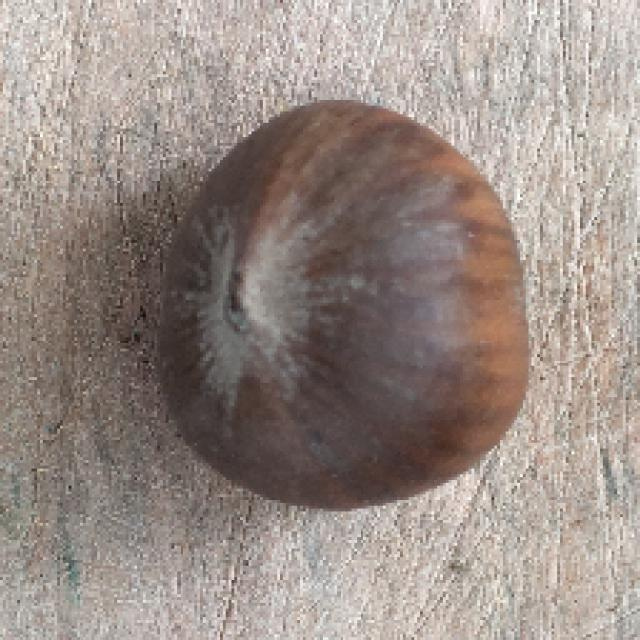damagedHazelnut: (144, 94, 537, 518)
